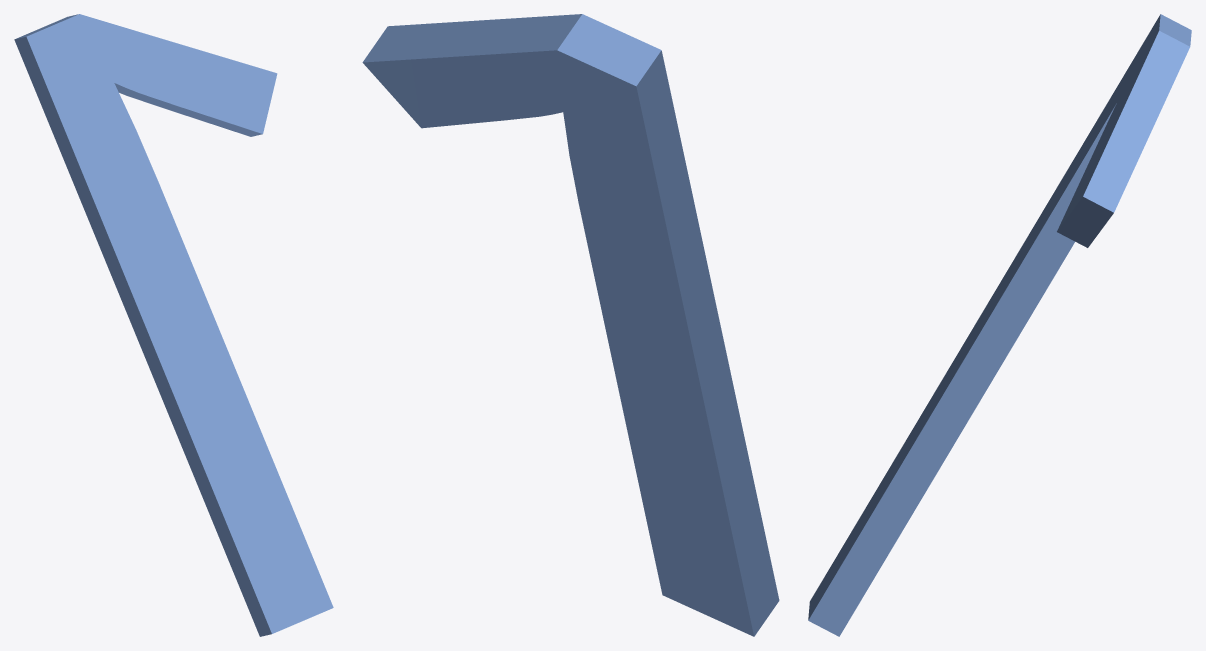
The model's file is New_Number_1.gltf.
3 views of the same model, side by side, from view 1: azimuth 30°, elevation 25°; view 2: azimuth 150°, elevation 25°; view 3: azimuth 270°, elevation 25° (orthographic). The views are drawn at different scales.
Visible parts, largest first — view 1: Part 523; view 2: Part 523; view 3: Part 523.
Boxes of the visible parts, left/top/right/bottom form: Part 523: left=14, top=14, right=333, bottom=636; Part 523: left=362, top=14, right=779, bottom=636; Part 523: left=808, top=14, right=1191, bottom=636.
Size of the model in its own units: 0.00196 by 0.00451 by 0.00275.
